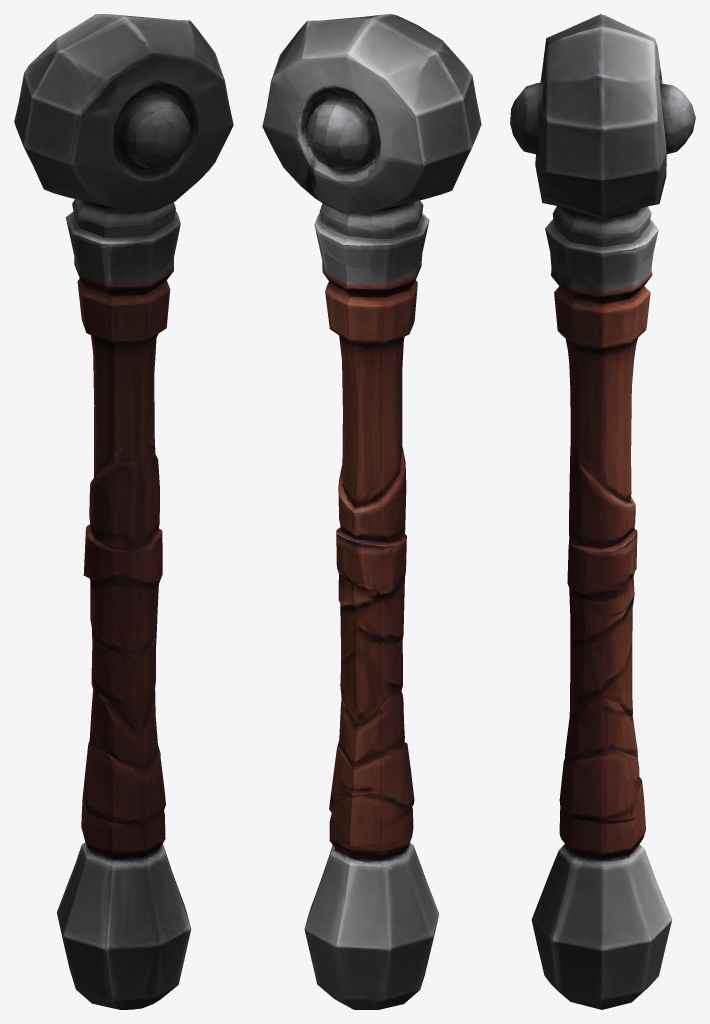
File: ironStaff.glb
3 renders of one model, left to right at view 1: azimuth 30°, elevation 25°; view 2: azimuth 150°, elevation 25°; view 3: azimuth 270°, elevation 25°, orthographic.
Parts seen in each view (by area): view 1: world; view 2: world; view 3: world.
Part boxes in pixels (<box>): world: <box>14,14,233,1009</box>; world: <box>262,14,481,1009</box>; world: <box>510,14,695,1009</box>.
Size of the model in its own units: 0.2116 by 1 by 0.1722.
Materials: 1 (1 with a texture image).
